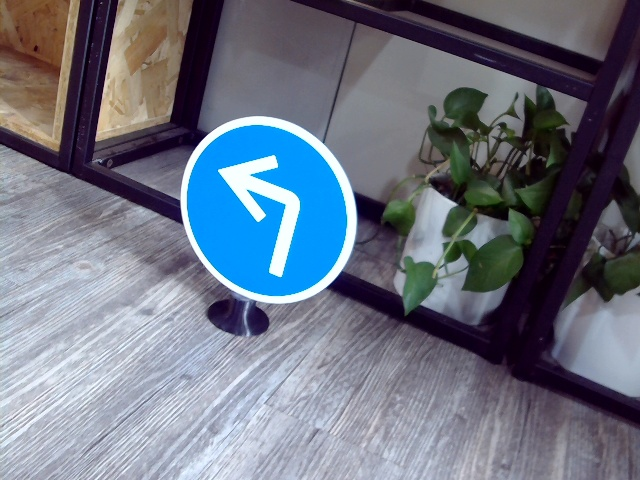turn_left: (211, 146, 311, 280)
